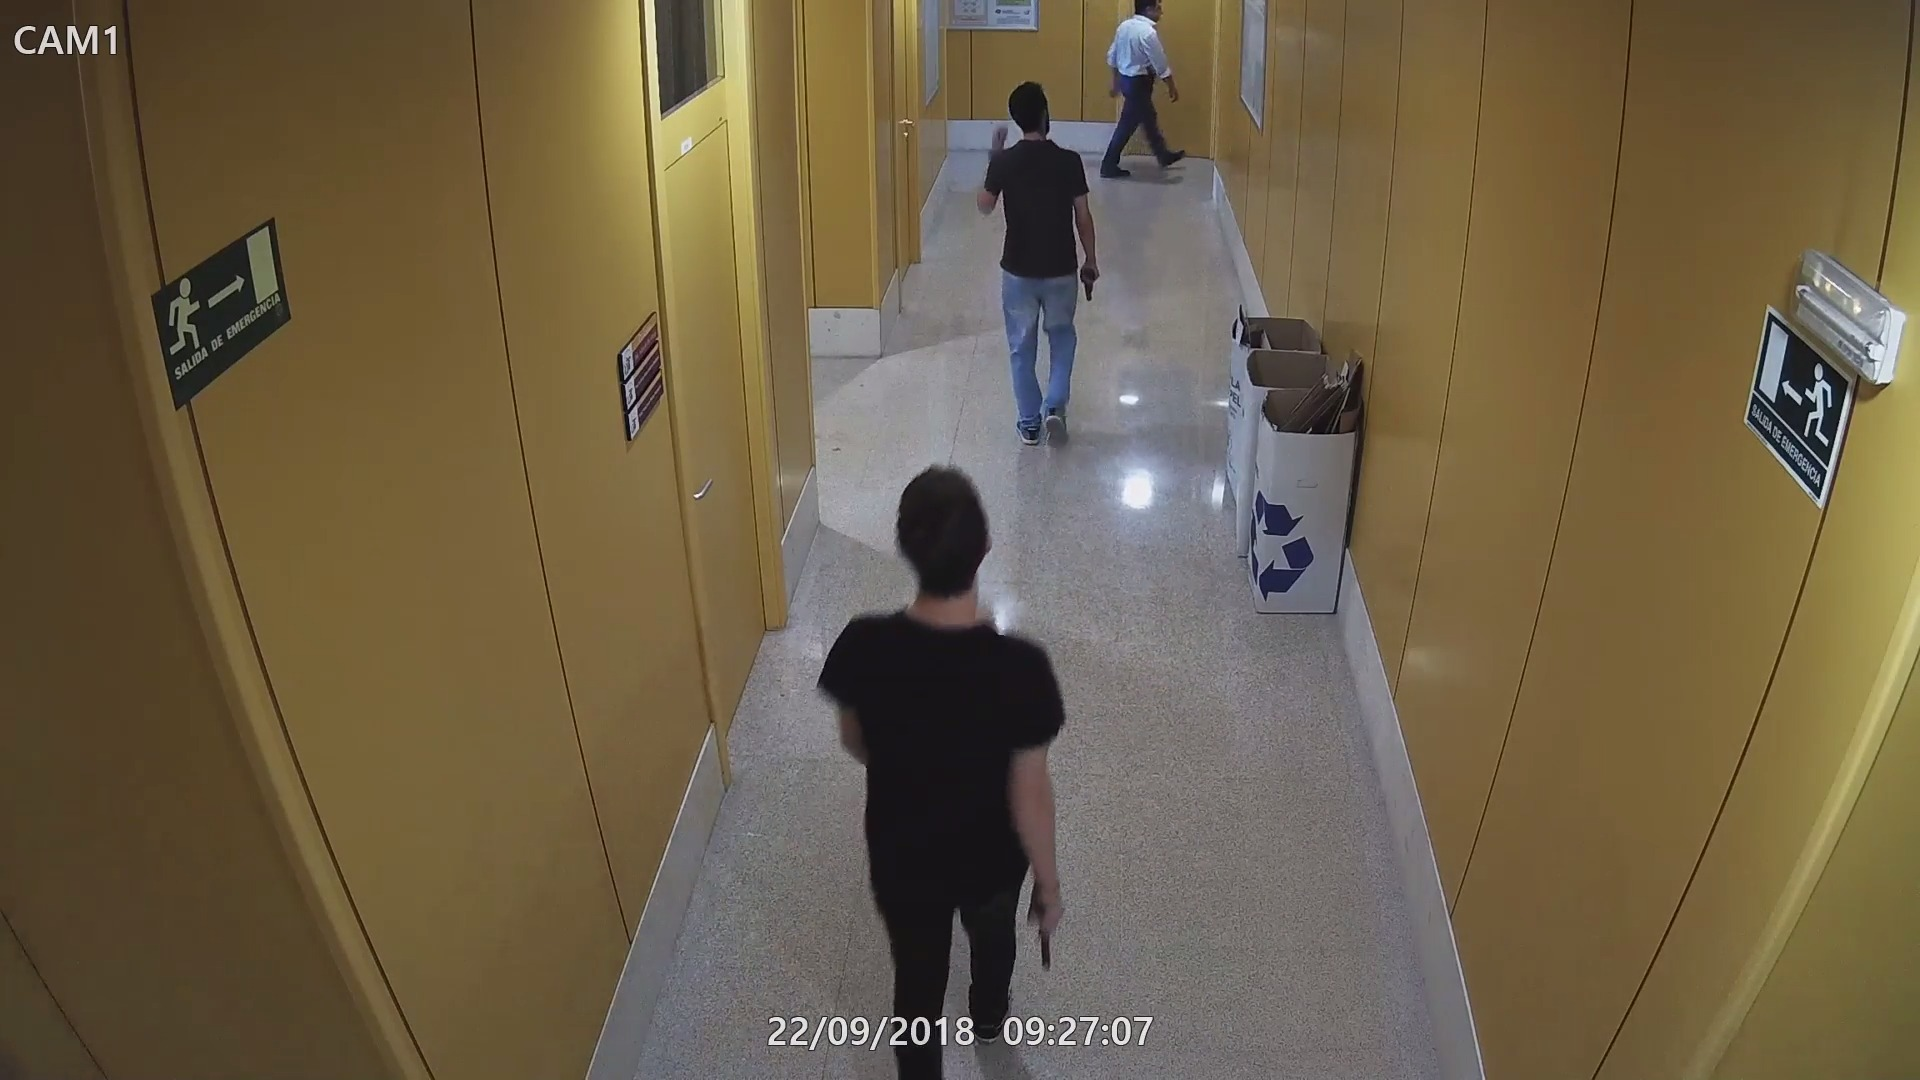Handgun: (1025, 872, 1067, 971), (1077, 258, 1104, 302)
